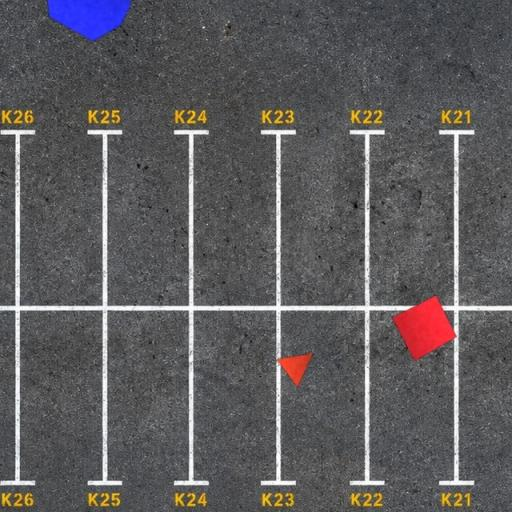RED_SQUARE: (391, 294, 457, 362)
